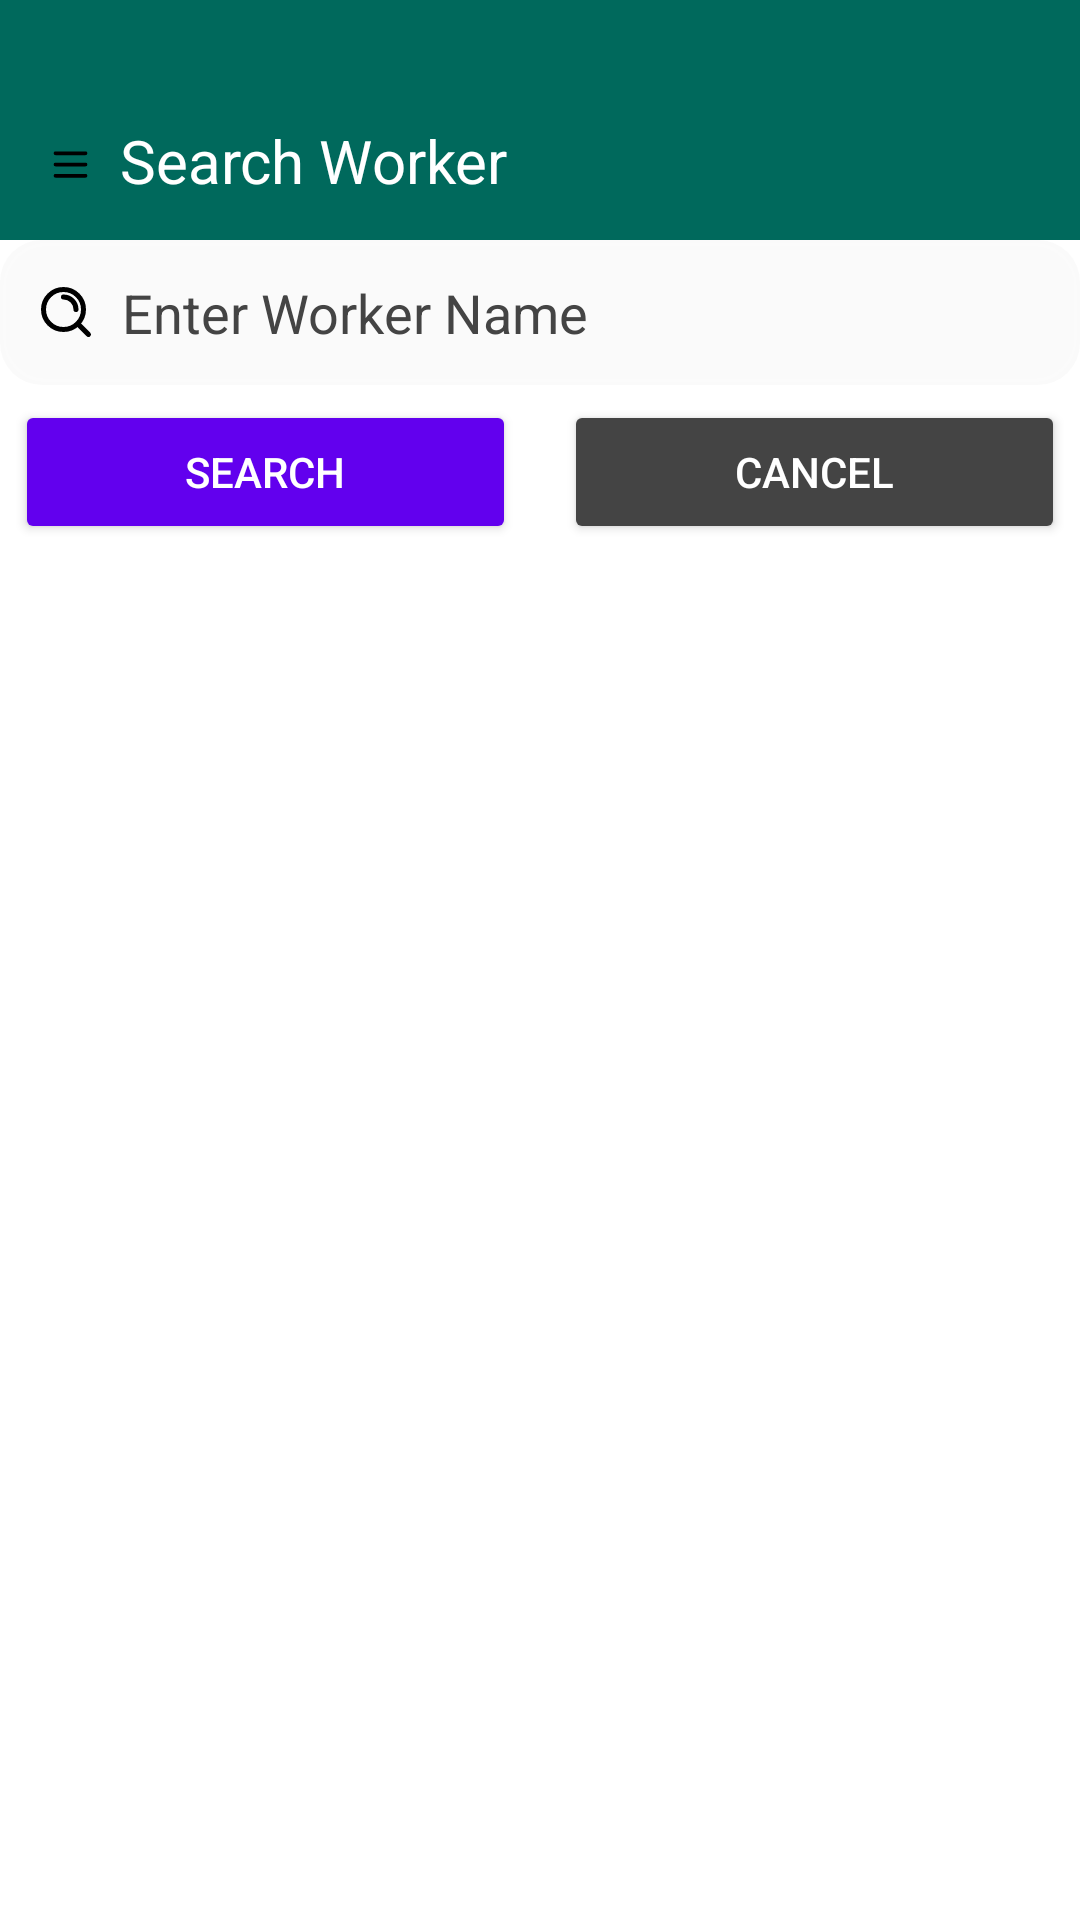

Icon click points for this 1080px x 1920px phone screenshot, format (x,y):
Menu: (70,164)
